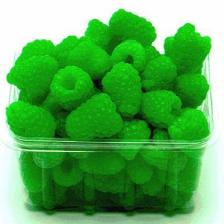green: (6, 9, 212, 141), (23, 152, 197, 209)
